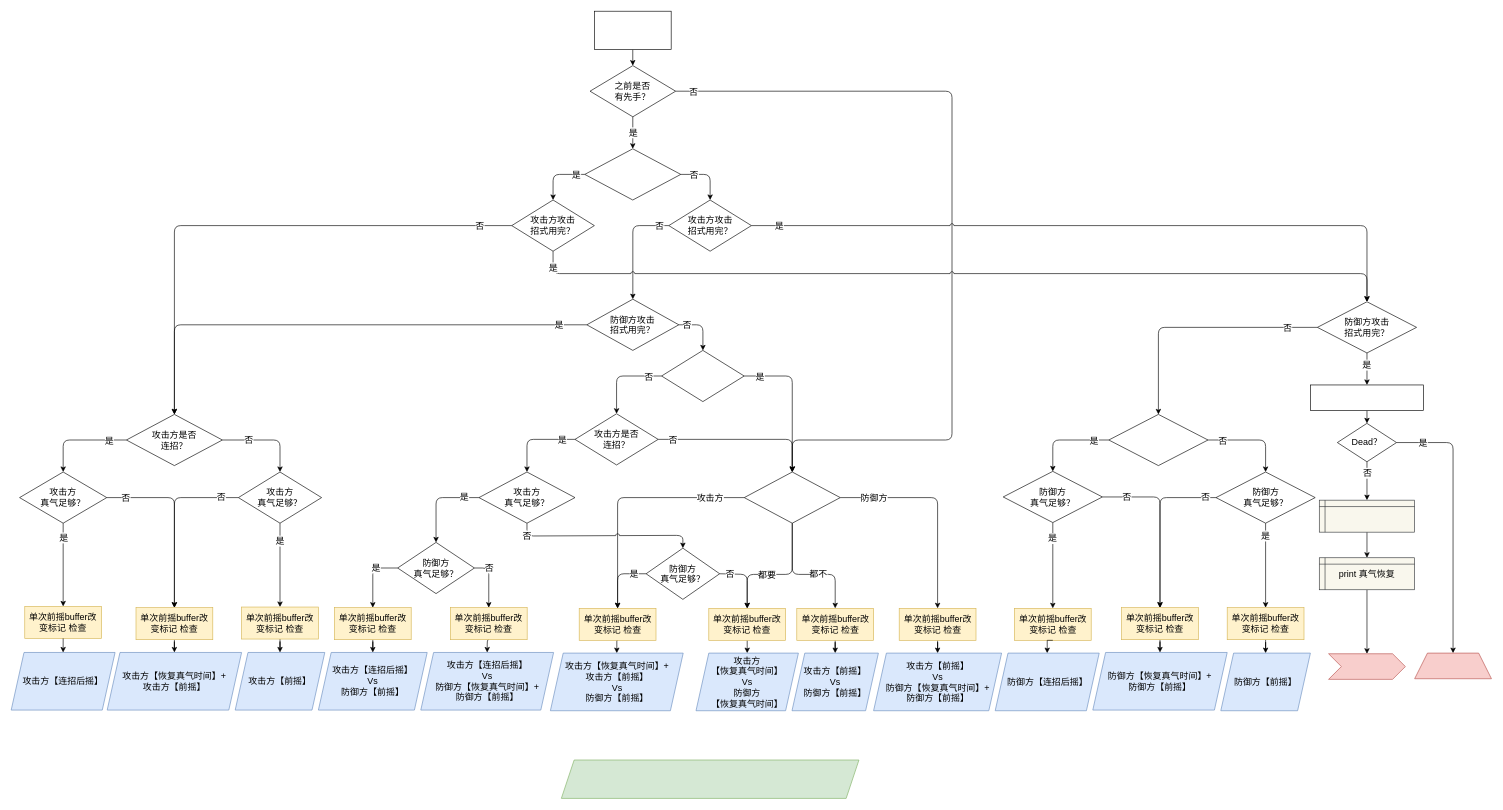
This 1503x810 diagram has some shape labels left out. Each missing label, with the box of its shape:
GameOver: (1414, 652, 1491, 679)
print 流血伤害: (1319, 500, 1415, 532)
上述 Vs 流血致死时间 vs 流血至攻击部位hp0 vs 止血到时 哪个时间短: (561, 759, 859, 798)
下回合: (1328, 653, 1405, 679)
判断先后手: (594, 11, 671, 50)
剩余时间 结算流血伤害: (1310, 384, 1424, 411)
强制打断 连招？: (661, 350, 744, 402)
谁需要 回复真气？: (744, 471, 840, 523)
防御方 是否连招？: (1108, 414, 1208, 466)
防御方 连招防御？: (584, 148, 681, 200)
